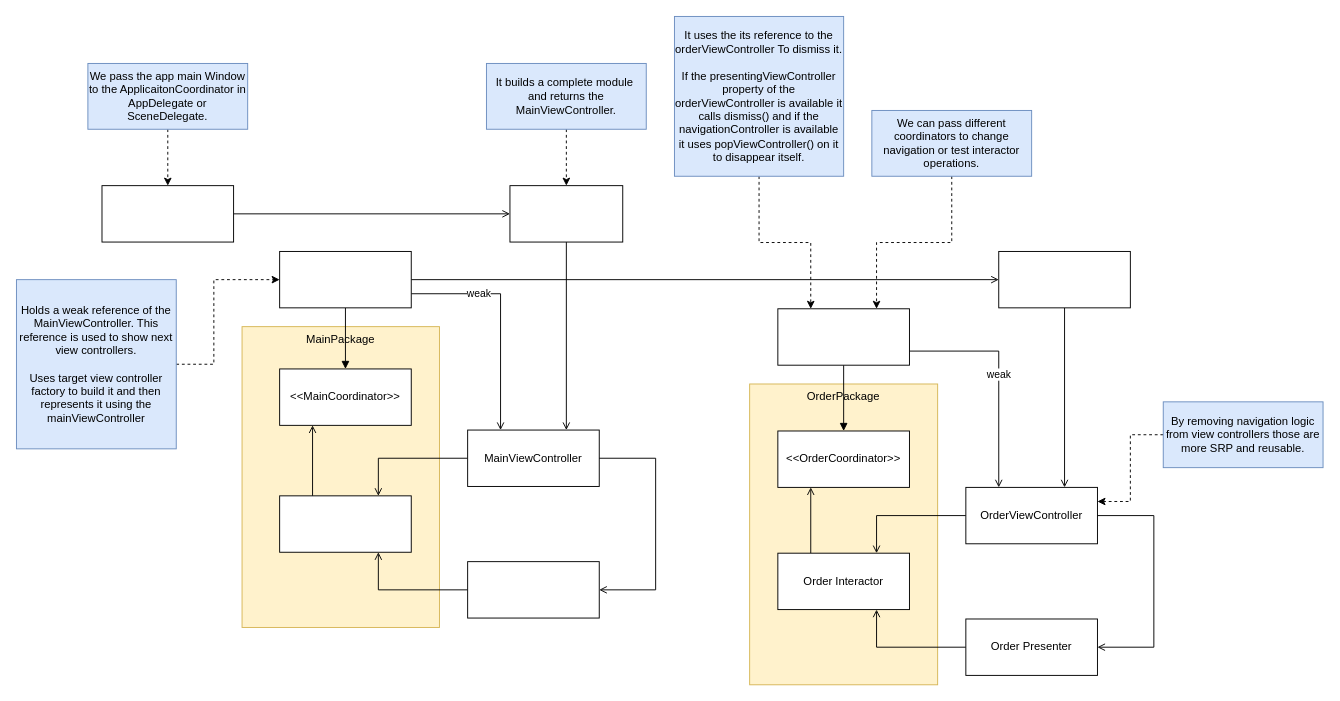
Some shapes in this 1340 by 701 pixel diagram are drawn without their labels. Here are the shapes that lost their labels. From the top down, the centre of each, then its label:
point (167, 213): ApplicationCoordinator
point (566, 213): MainFactory
point (345, 279): MainCoordinator
point (1064, 279): OrderFactory
point (843, 336): OrderCoordinator
point (345, 523): Main Interactor
point (533, 589): Main Presenter
